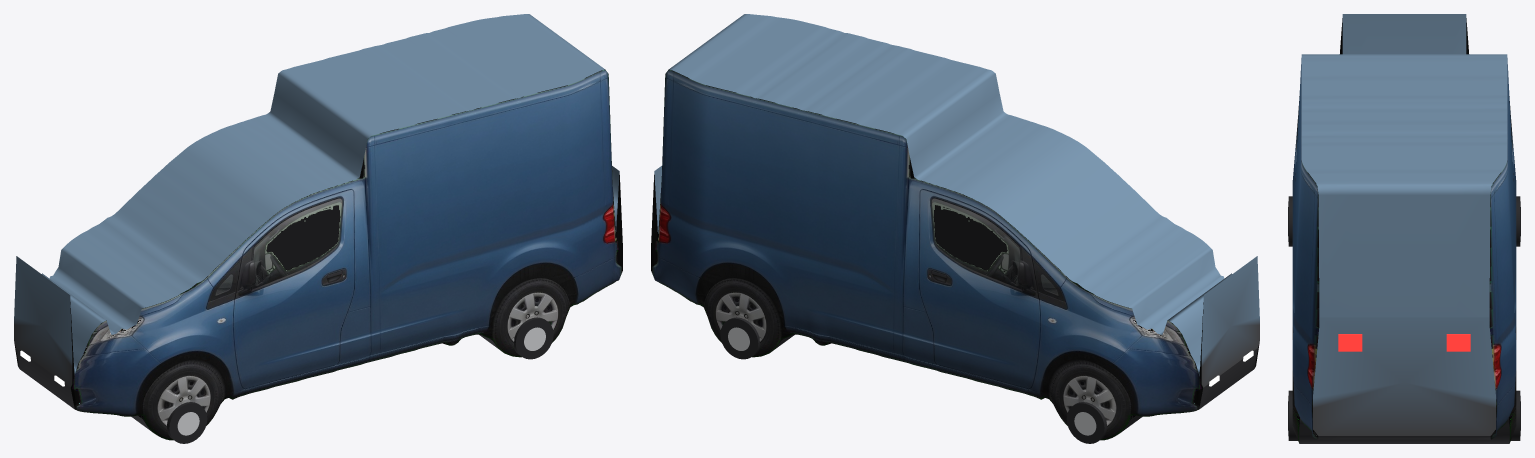
File: van.glb
3 renders of one model, left to right at view 1: azimuth 30°, elevation 25°; view 2: azimuth 150°, elevation 25°; view 3: azimuth 270°, elevation 25°, orthographic. The views are drawn at different scales.
Visible parts, largest first — view 1: van; view 2: van; view 3: van.
Boxes of the visible parts, x1=… form: van: x1=14, y1=14, x2=622, y2=443; van: x1=651, y1=14, x2=1259, y2=443; van: x1=1288, y1=14, x2=1520, y2=443.
Size of the model in its own units: 4.58 by 2.1 by 1.48.
Materials: 8 (2 with a texture image).
